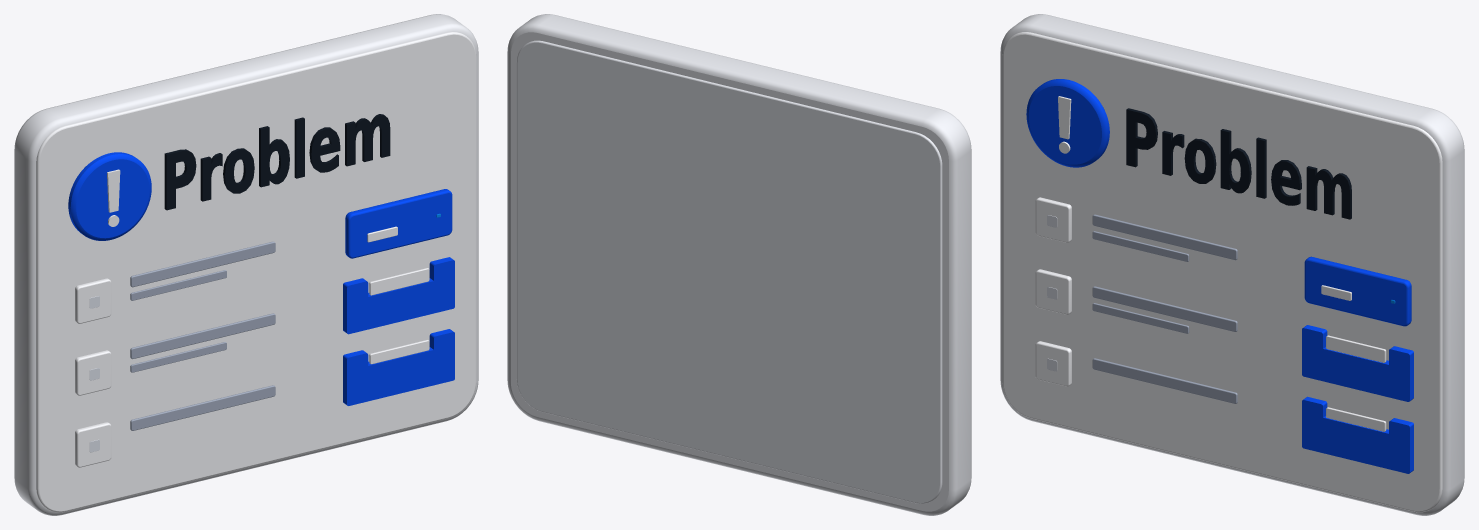
File: 11-nodeworks-problem-board.glb
3 views of the same model, side by side, from view 1: azimuth 30°, elevation 25°; view 2: azimuth 150°, elevation 25°; view 3: azimuth 330°, elevation 25° (orthographic).
Parts seen in each view (by area): view 1: white_front_face, white_problem_board_housing, problem_title, blue_problem_badge, status_block_3_notched_body, status_block_1, status_block_2_notched_body, row_3_primary_gray_line, row_1_primary_gray_line, row_2_primary_gray_line, row_1_checkbox, row_3_checkbox (+6 smaller); view 2: rear_cover, white_problem_board_housing; view 3: white_front_face, white_problem_board_housing, problem_title, blue_problem_badge, status_block_3_notched_body, status_block_1, status_block_2_notched_body, row_3_primary_gray_line, row_1_primary_gray_line, row_2_primary_gray_line, row_1_checkbox, row_3_checkbox (+6 smaller).
Part boxes in pixels (left/top/right/bottom): white_front_face: left=36, top=32, right=476, bottom=512; white_problem_board_housing: left=14, top=14, right=478, bottom=515; problem_title: left=164, top=114, right=390, bottom=210; blue_problem_badge: left=68, top=152, right=151, bottom=240; status_block_3_notched_body: left=343, top=329, right=454, bottom=405; status_block_1: left=345, top=189, right=452, bottom=258; status_block_2_notched_body: left=343, top=257, right=454, bottom=334; row_3_primary_gray_line: left=130, top=385, right=275, bottom=430; row_1_primary_gray_line: left=130, top=241, right=275, bottom=287; row_2_primary_gray_line: left=130, top=313, right=275, bottom=359; row_1_checkbox: left=75, top=278, right=111, bottom=323; row_3_checkbox: left=75, top=422, right=111, bottom=467; rear_cover: left=516, top=40, right=942, bottom=503; white_problem_board_housing: left=507, top=14, right=971, bottom=515; white_front_face: left=1002, top=32, right=1442, bottom=512; white_problem_board_housing: left=1000, top=14, right=1464, bottom=515; problem_title: left=1126, top=108, right=1351, bottom=219; blue_problem_badge: left=1026, top=79, right=1109, bottom=167; status_block_3_notched_body: left=1302, top=396, right=1413, bottom=473; status_block_1: left=1304, top=256, right=1411, bottom=326; status_block_2_notched_body: left=1302, top=325, right=1413, bottom=401; row_3_primary_gray_line: left=1092, top=358, right=1237, bottom=403; row_1_primary_gray_line: left=1092, top=214, right=1237, bottom=260; row_2_primary_gray_line: left=1092, top=286, right=1237, bottom=331; row_1_checkbox: left=1035, top=197, right=1071, bottom=242; row_3_checkbox: left=1035, top=341, right=1071, bottom=386.
Size of the model in its own units: 1.9 by 1.6 by 0.2105.
